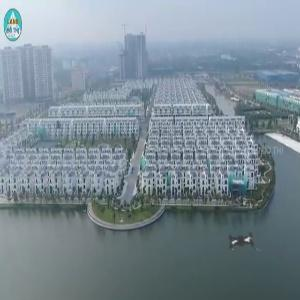drone: (208, 209, 274, 275)
